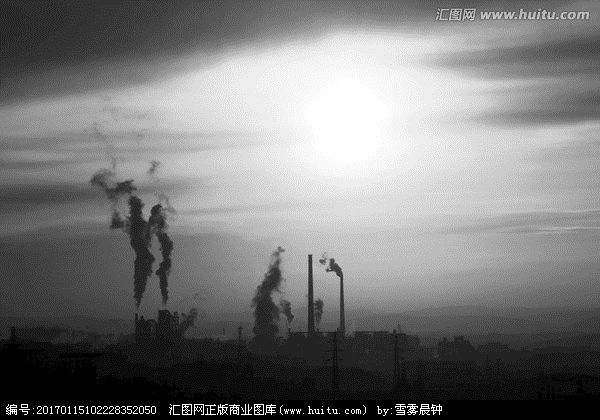dust: (145, 197, 182, 315), (122, 210, 156, 322), (316, 245, 351, 285), (281, 295, 301, 331), (311, 298, 329, 331)
